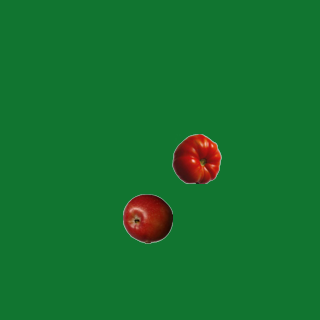Apple Braeburn: (122, 193, 172, 243)
Tomato 3: (171, 133, 221, 183)
